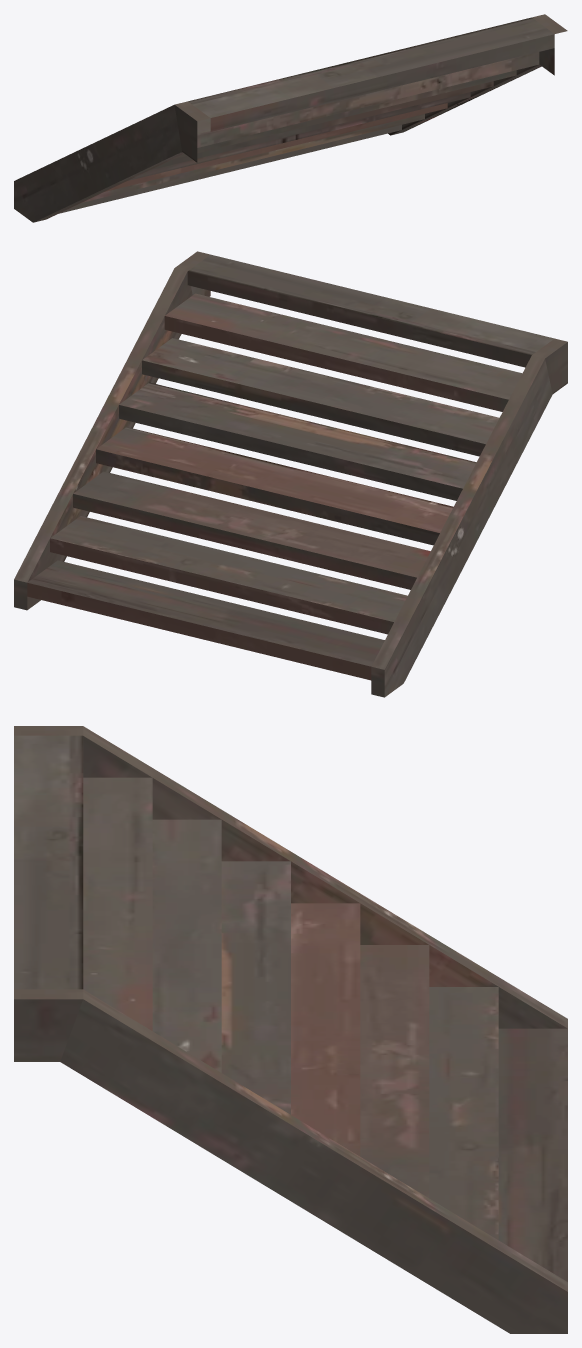
3 views of the same model, one above another, from view 1: azimuth 30°, elevation 25°; view 2: azimuth 150°, elevation 25°; view 3: azimuth 270°, elevation 25° (orthographic). The views are drawn at different scales.
Parts seen in each view (by area): view 1: body0_model0_lod0_mesh0; view 2: body0_model0_lod0_mesh0; view 3: body0_model0_lod0_mesh0.
Part boxes in pixels (<box>): body0_model0_lod0_mesh0: <box>14,14,567,222</box>; body0_model0_lod0_mesh0: <box>14,251,567,697</box>; body0_model0_lod0_mesh0: <box>14,726,567,1333</box>.
Size of the model in its own units: 112 by 64.01 by 96.
2 materials, 1 textured.
